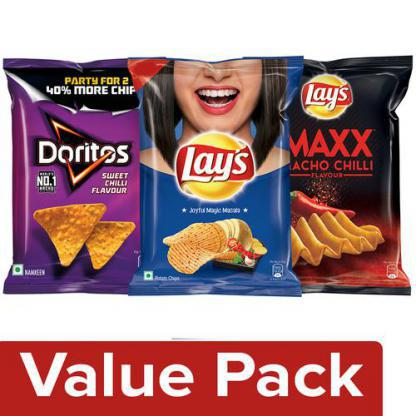indian_magic_masala: (129, 58, 290, 291)
max_chili: (293, 57, 410, 293)
